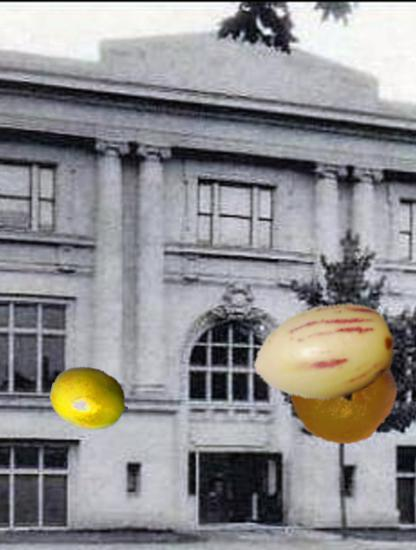Lemon: (290, 338, 395, 443)
Maracuja: (50, 359, 129, 438)
Pepino: (254, 285, 397, 428)
